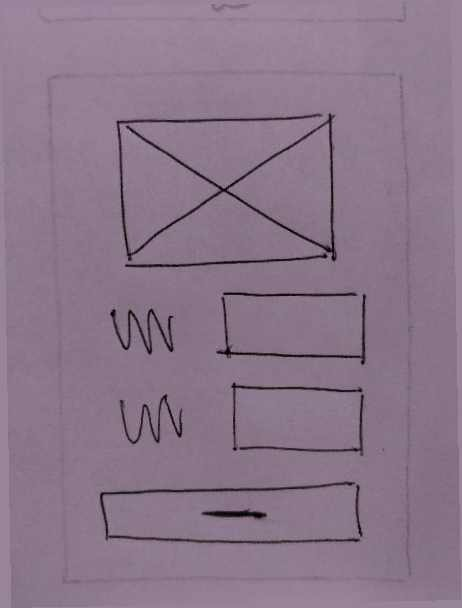button: (84, 471, 380, 557)
image: (106, 108, 350, 278)
text: (107, 390, 206, 452), (96, 303, 191, 352)
text_input: (215, 283, 375, 372), (219, 379, 377, 467)
